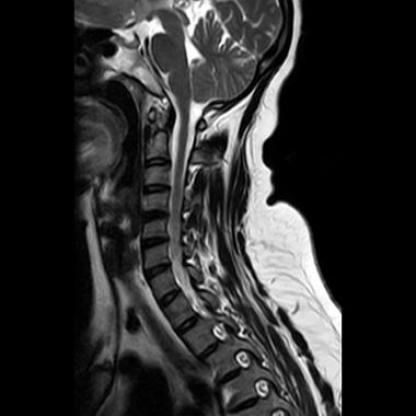Degenerative Disc Diseaserotation: (142, 207, 170, 225), (142, 234, 169, 251)
Disc Bulgerotation: (142, 234, 168, 251), (142, 208, 169, 224), (143, 183, 171, 195), (146, 157, 171, 170)
Osteophytesrotation: (142, 234, 169, 250)
